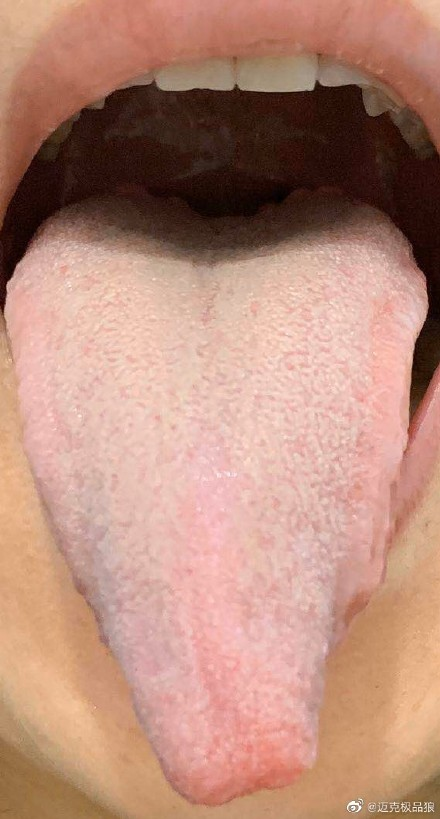baitaishe: (5, 182, 429, 808)
chihenshe: (324, 311, 428, 682)
shoushe: (4, 181, 428, 807)
